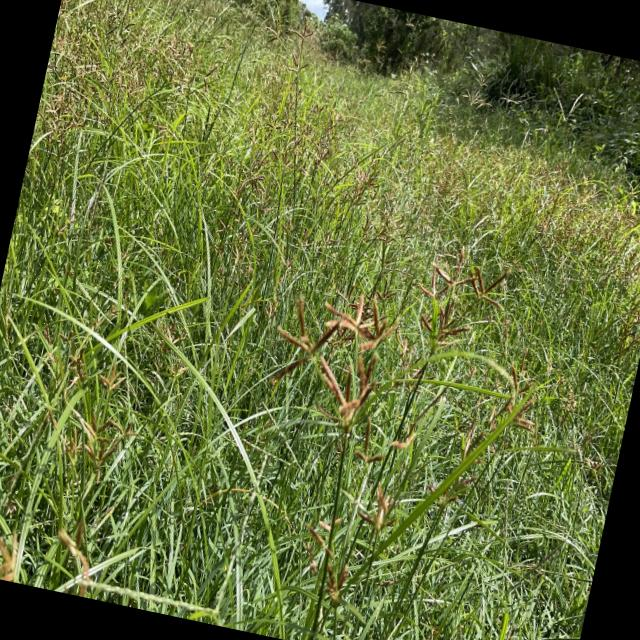cyperus: (256, 266, 405, 436), (236, 7, 326, 166), (404, 230, 506, 354), (456, 356, 548, 472), (68, 350, 149, 474), (297, 502, 363, 608), (482, 352, 552, 451), (264, 200, 318, 296), (298, 84, 354, 174), (33, 323, 97, 392), (255, 8, 318, 78), (145, 314, 200, 390), (34, 78, 92, 150), (49, 0, 107, 70), (268, 213, 316, 286), (222, 217, 270, 284), (364, 188, 410, 256), (256, 109, 306, 170), (104, 48, 154, 106), (570, 419, 614, 481), (342, 150, 384, 213), (173, 52, 223, 102), (358, 480, 399, 540), (588, 226, 622, 292), (150, 31, 193, 83), (546, 366, 584, 424), (97, 0, 139, 51), (237, 146, 274, 200), (354, 414, 388, 468), (386, 322, 422, 373), (572, 204, 602, 257), (432, 159, 464, 205), (462, 69, 494, 111), (488, 168, 520, 210), (554, 200, 582, 248), (316, 232, 344, 272), (149, 117, 178, 153), (210, 212, 237, 247), (609, 202, 639, 233), (528, 212, 552, 248), (625, 305, 640, 350), (530, 162, 552, 191), (496, 311, 514, 343), (508, 252, 525, 276), (552, 162, 570, 182)
